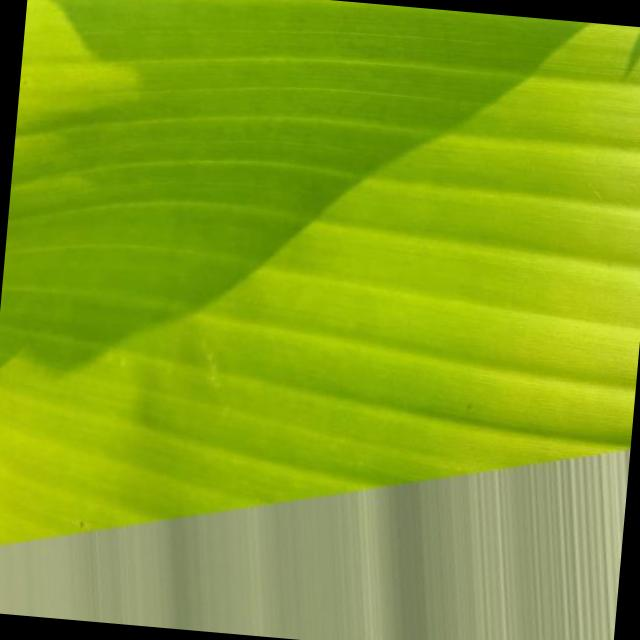Banana_Healthy: (126, 85, 537, 442)
